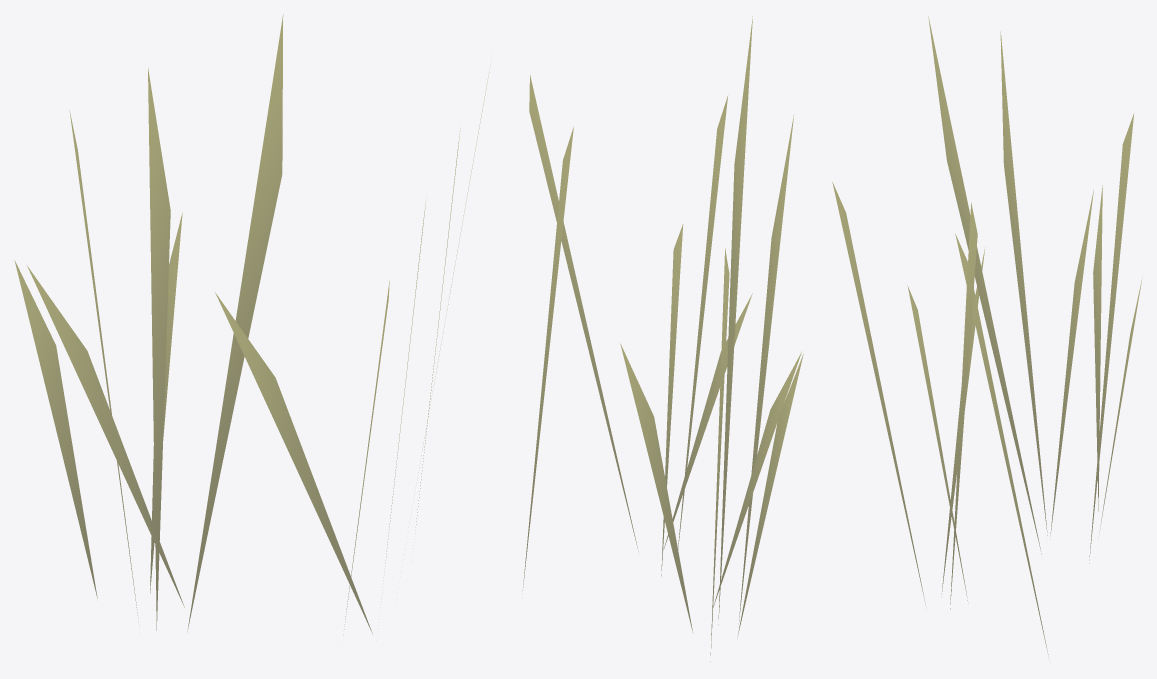
The model's file is SM_detail_grassS_D_LOD1.FBX.
The picture shows the model from 3 angles, left to right: view 1: azimuth 30°, elevation 25°; view 2: azimuth 150°, elevation 25°; view 3: azimuth 270°, elevation 25°; orthographic projection. The views are drawn at different scales.
Visible parts, largest first — view 1: SM_detail_grassS_D_LOD1; view 2: SM_detail_grassS_D_LOD1; view 3: SM_detail_grassS_D_LOD1.
Part boxes in pixels (x1,y1,x2,y2): SM_detail_grassS_D_LOD1: [14, 14, 491, 634]; SM_detail_grassS_D_LOD1: [522, 16, 803, 661]; SM_detail_grassS_D_LOD1: [832, 16, 1142, 657].
Size of the model in its own units: 107 by 174 by 85.78.
Materials: 1 (1 with a texture image).
